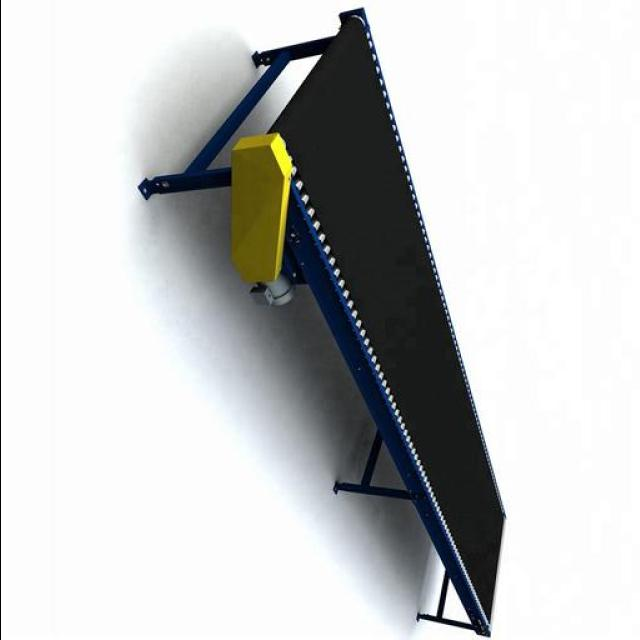conveyor: (267, 16, 518, 640)
